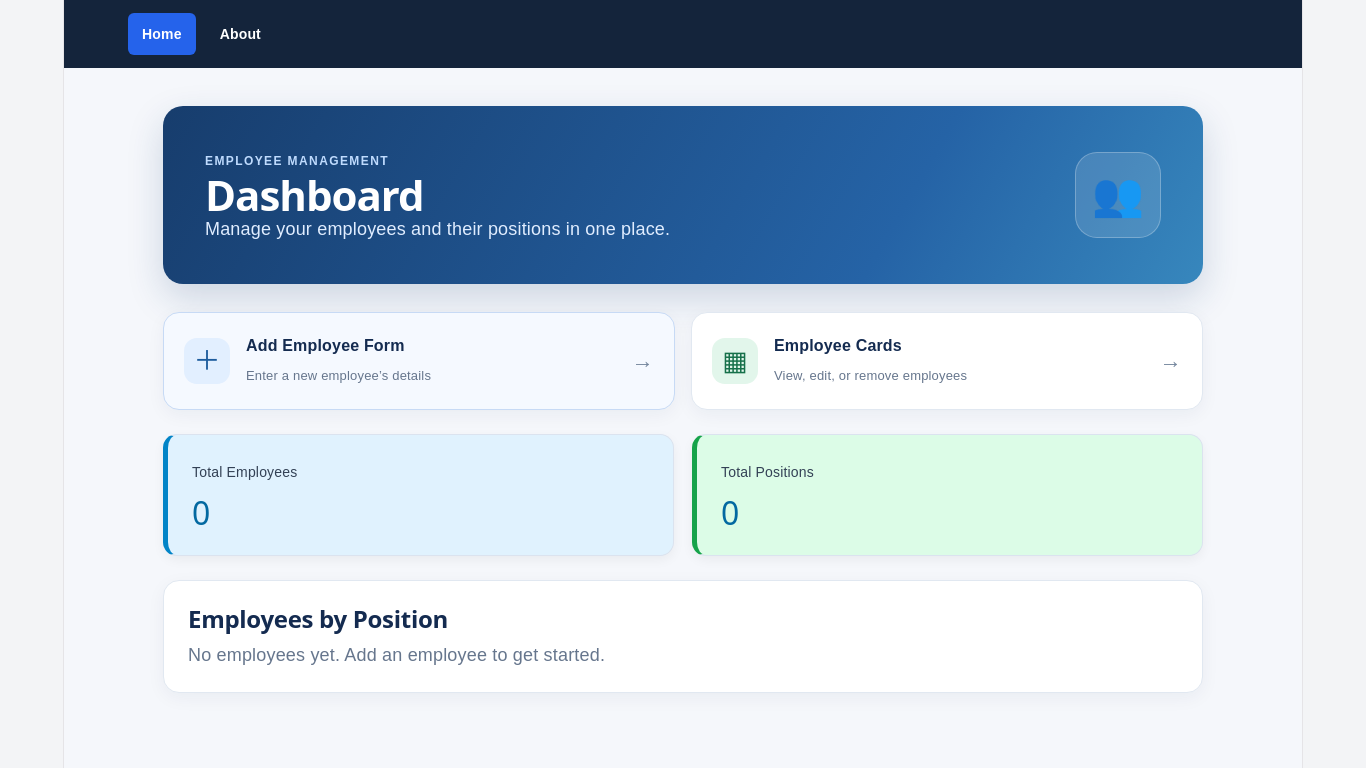
Scenario: App navigation › opens the About page from the navigation bar
Click the link "About": (240, 34) [220,26,261,42]
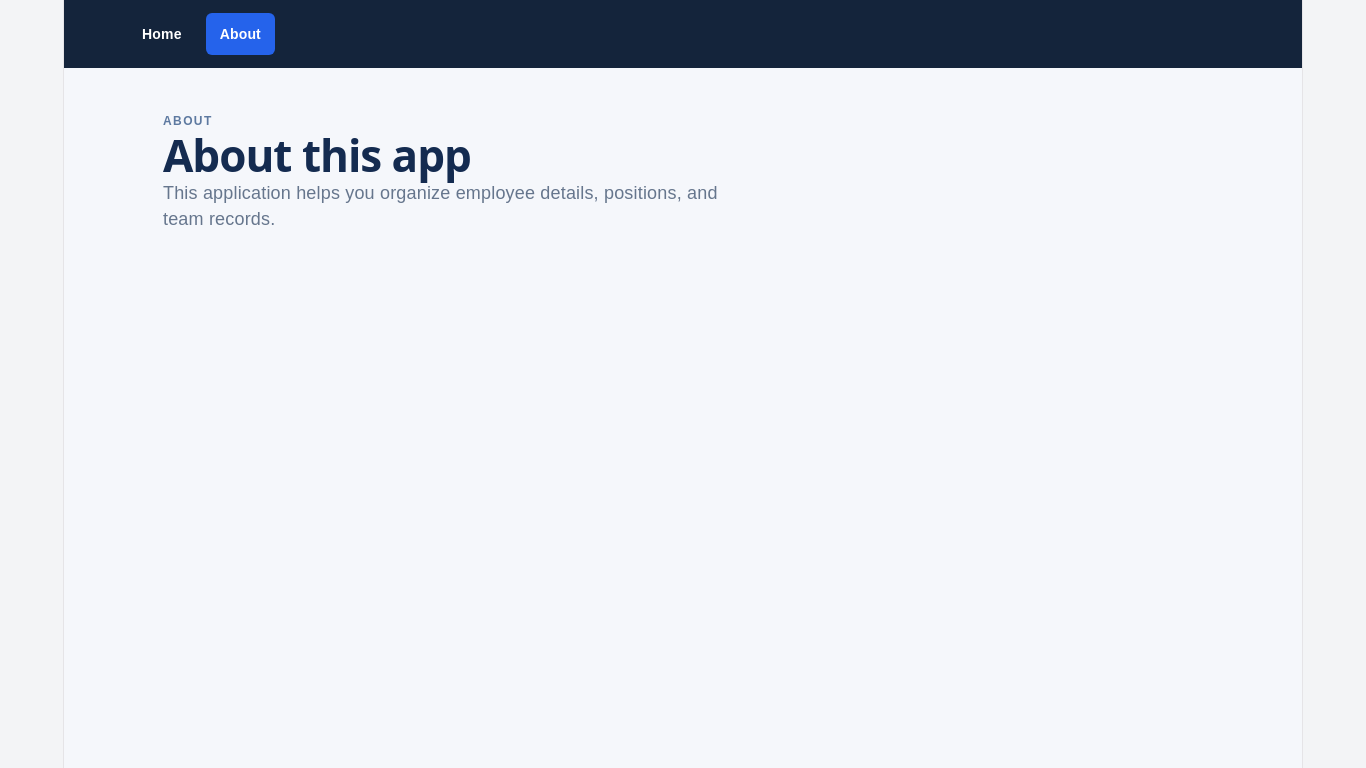
Now the heading "About this app" is shown, box [163,125,471,185]
